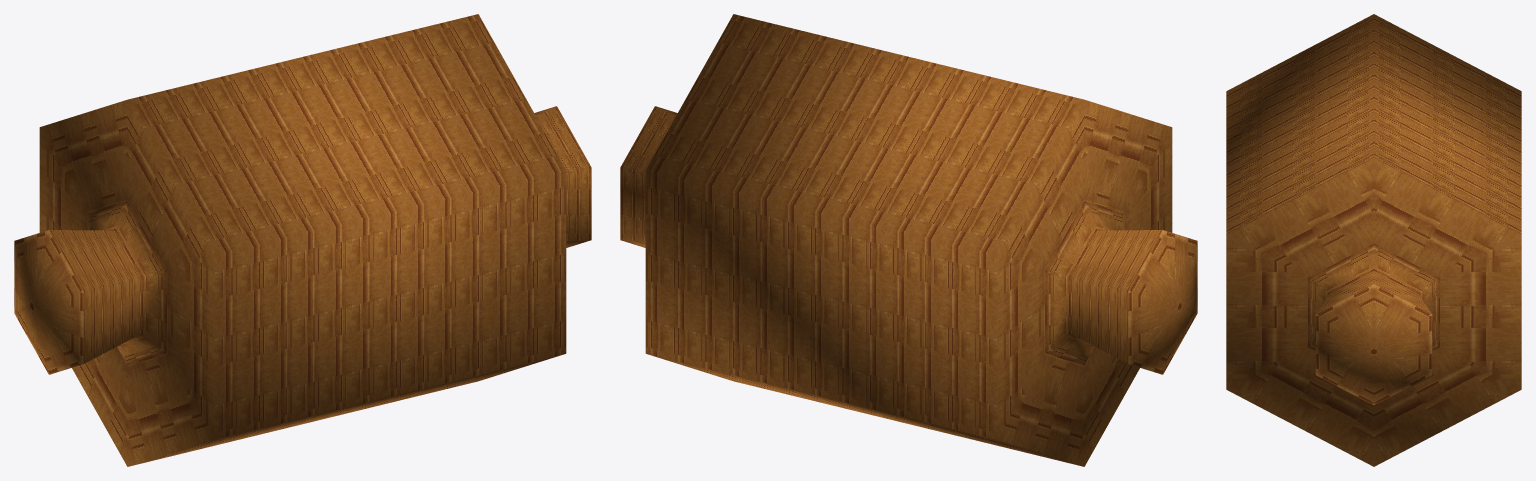
File: 1075item546.gltf
3 renders of one model, left to right at view 1: azimuth 30°, elevation 25°; view 2: azimuth 150°, elevation 25°; view 3: azimuth 270°, elevation 25°, orthographic. The views are drawn at different scales.
Parts seen in each view (by area): view 1: 1075item546; view 2: 1075item546; view 3: 1075item546.
Part boxes in pixels (x1,y1,x2,y2): 1075item546: [14, 14, 591, 466]; 1075item546: [620, 14, 1197, 466]; 1075item546: [1226, 14, 1521, 466].
Size of the model in its own units: 3.1 by 2 by 1.73.
1 material, 1 textured.
